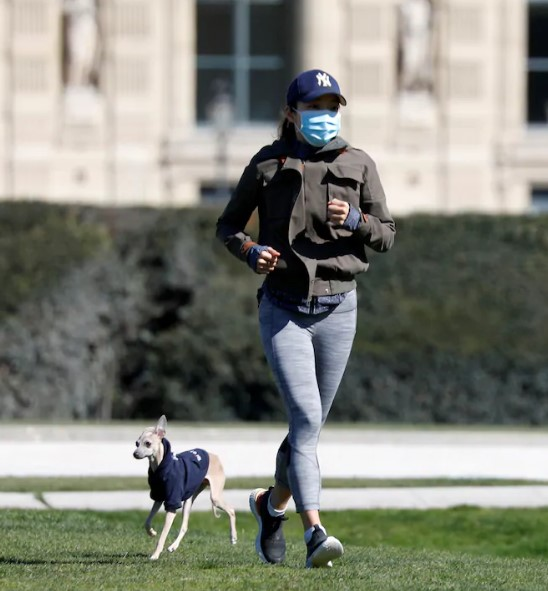face_with_mask: (287, 71, 342, 145)
